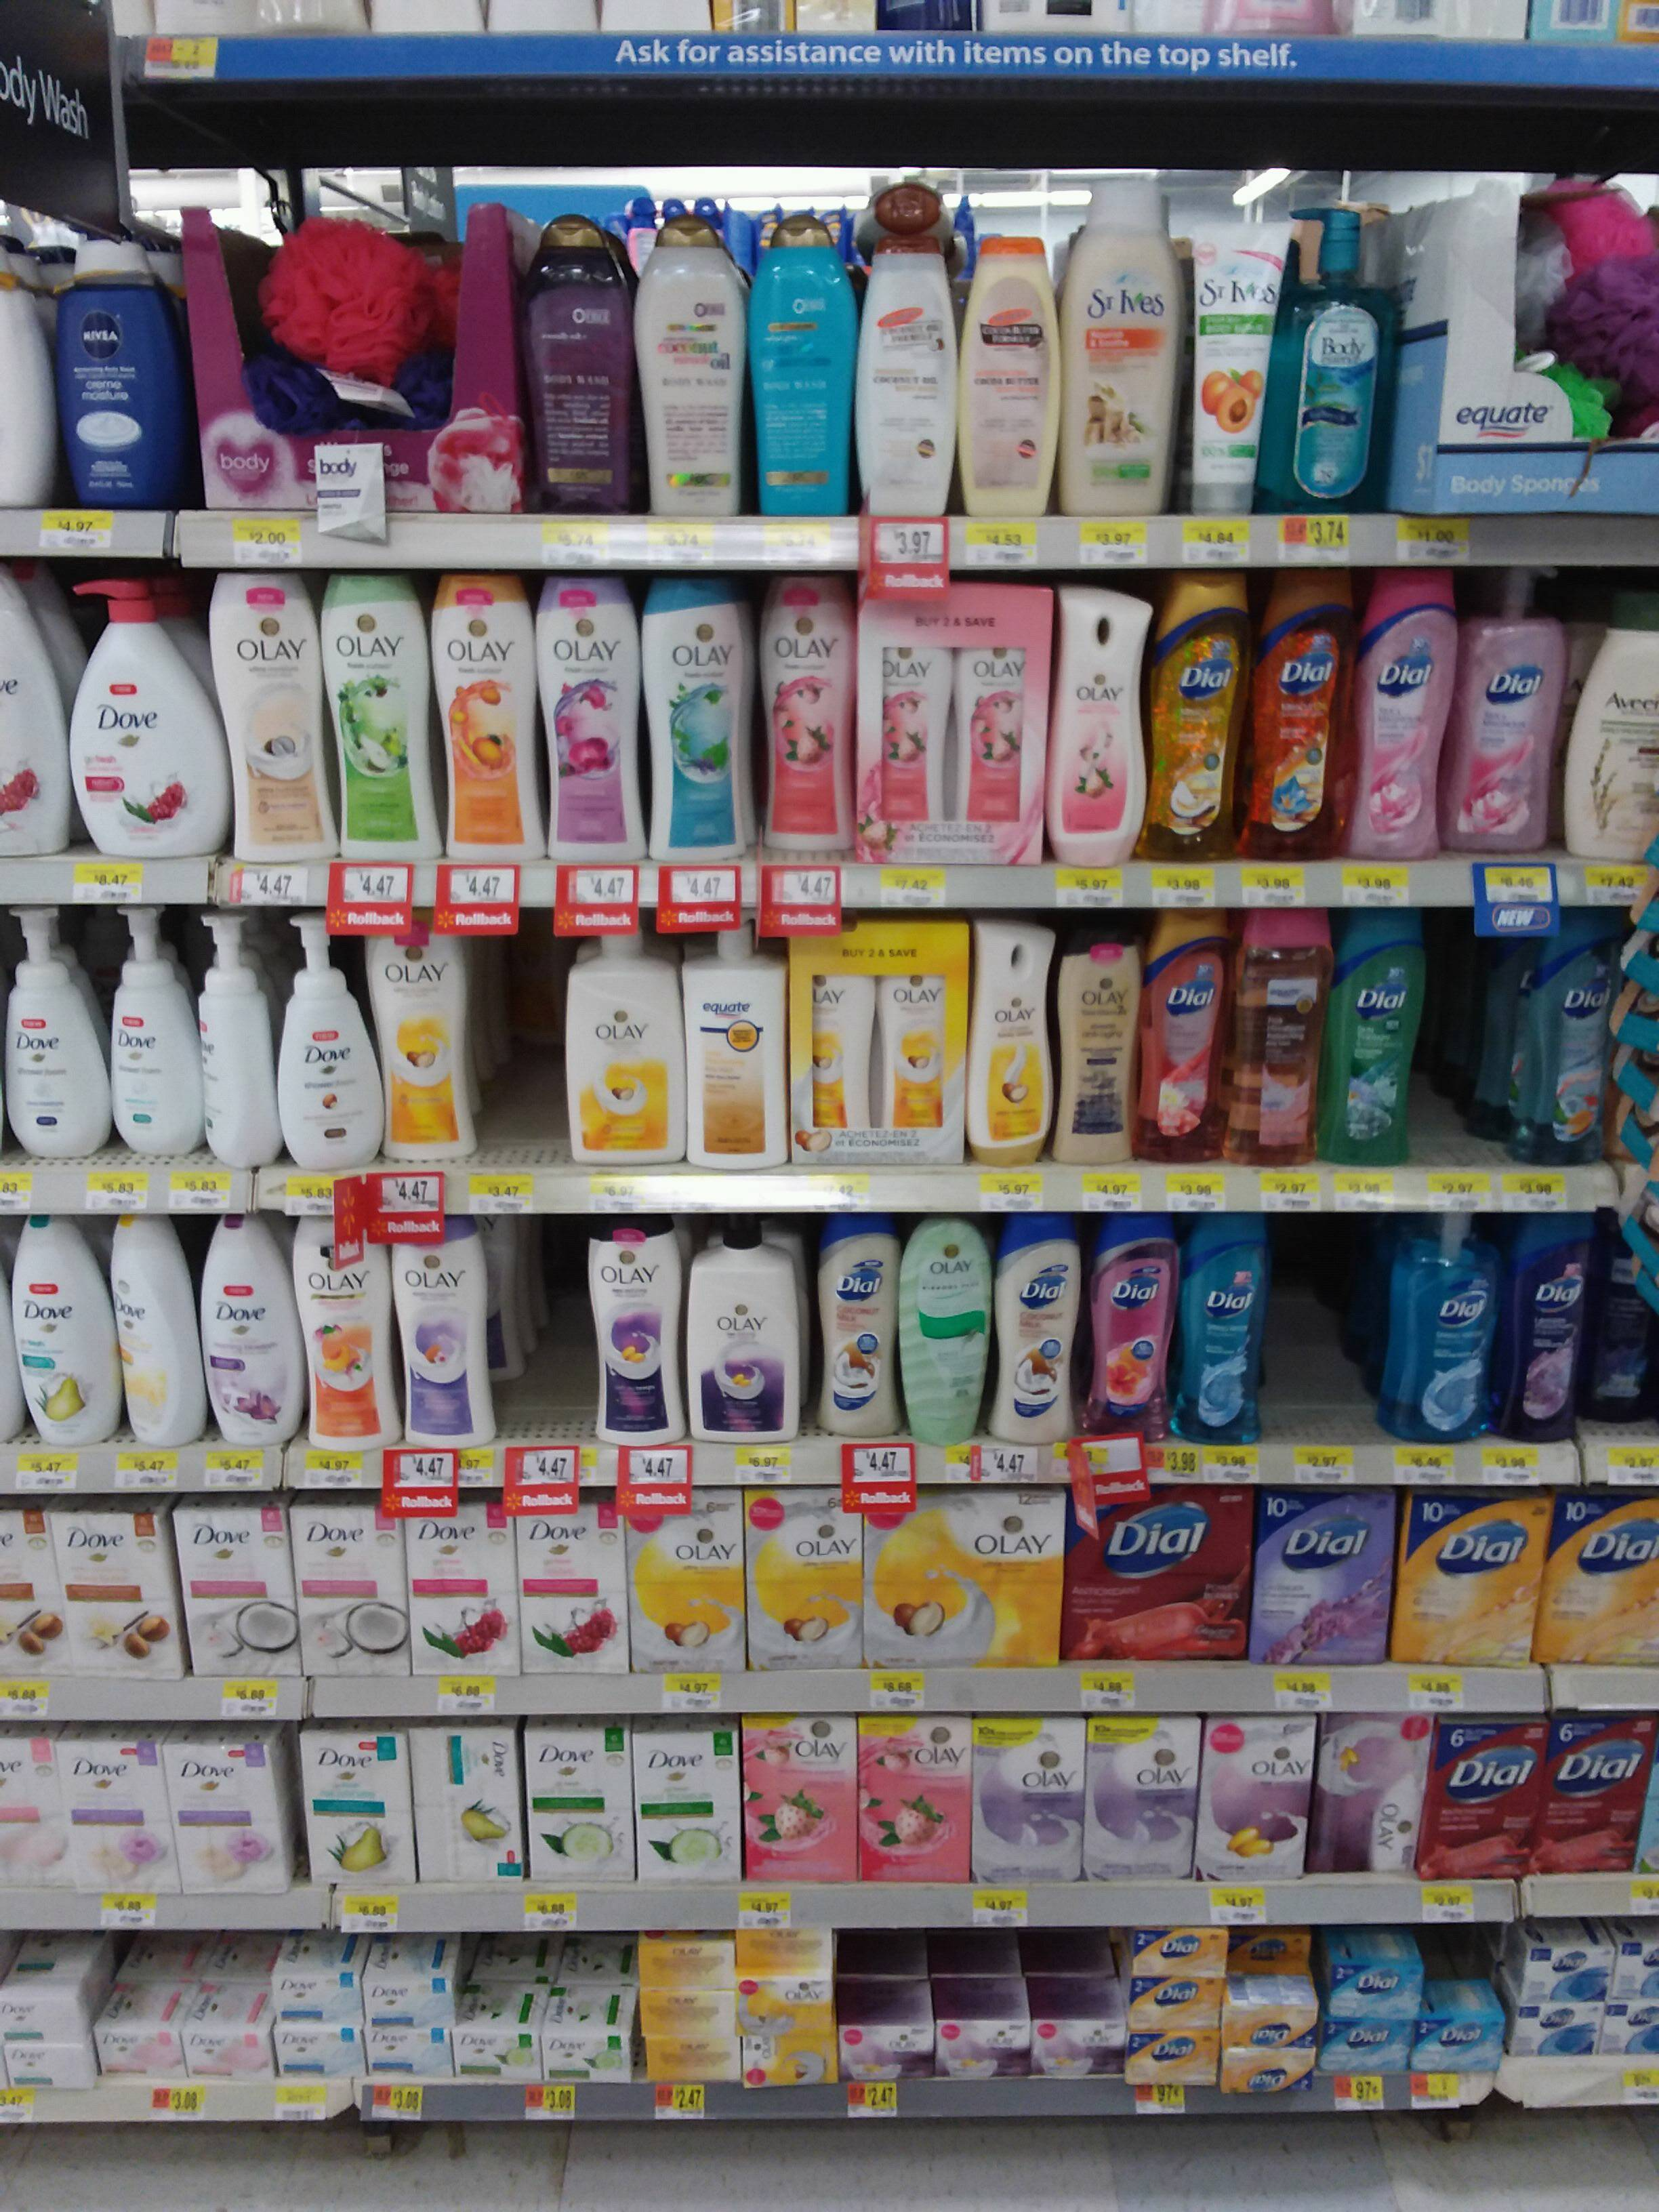Out-of-stock: (1265, 1214, 1391, 1486)
